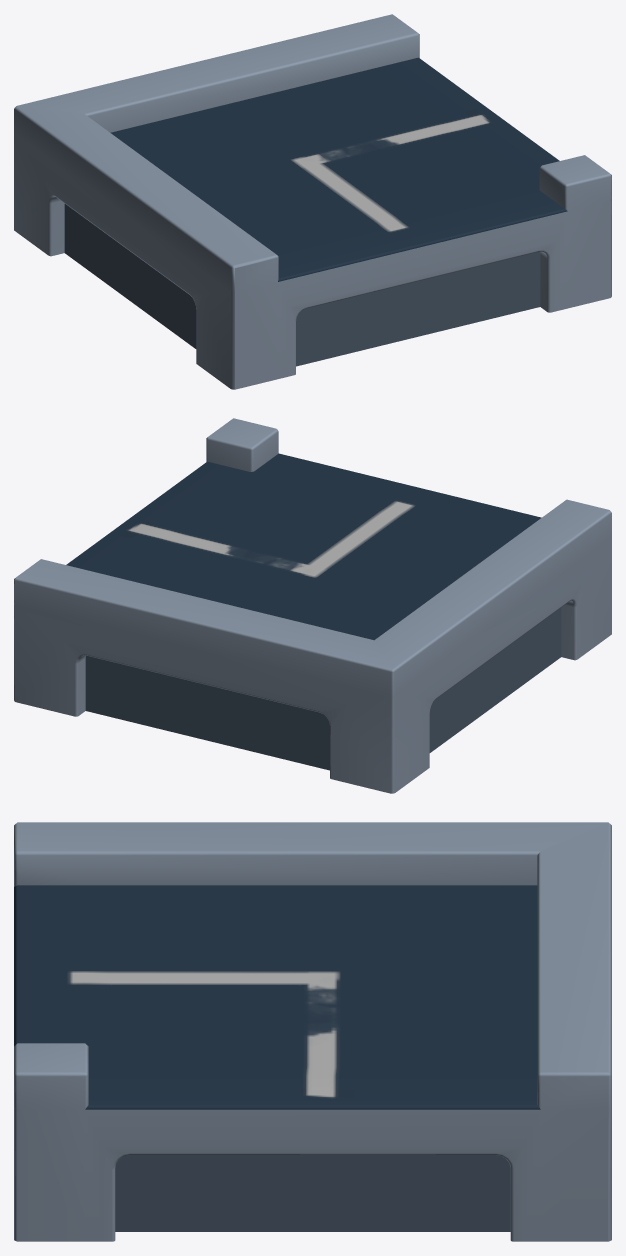
Rendered from road_3.fbx.
3 renders of one model, top to bottom at view 1: azimuth 30°, elevation 25°; view 2: azimuth 150°, elevation 25°; view 3: azimuth 270°, elevation 25°, orthographic. The views are drawn at different scales.
Visible parts, largest first — view 1: road_3; view 2: road_3; view 3: road_3.
Part boxes in pixels (x1,y1,x2,y2): road_3: (14, 14, 611, 389); road_3: (14, 418, 611, 793); road_3: (14, 822, 611, 1241).
Bounding box in the file's own units: 8 × 2.49 × 8.
